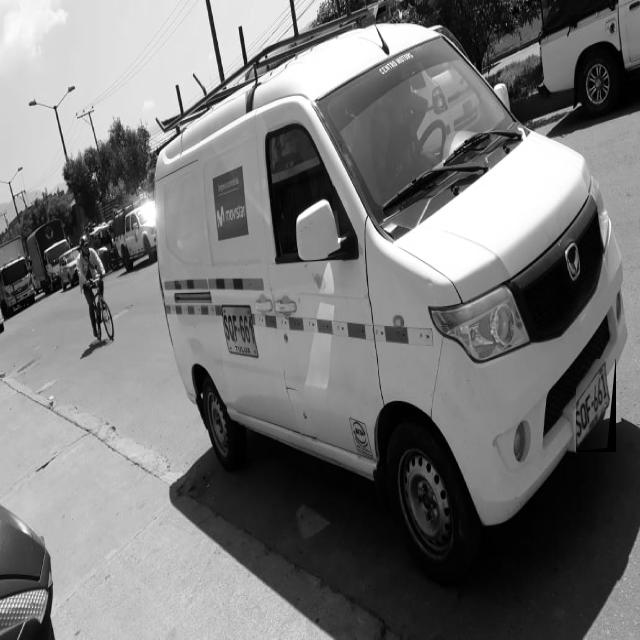plate: (576, 359, 612, 451)
